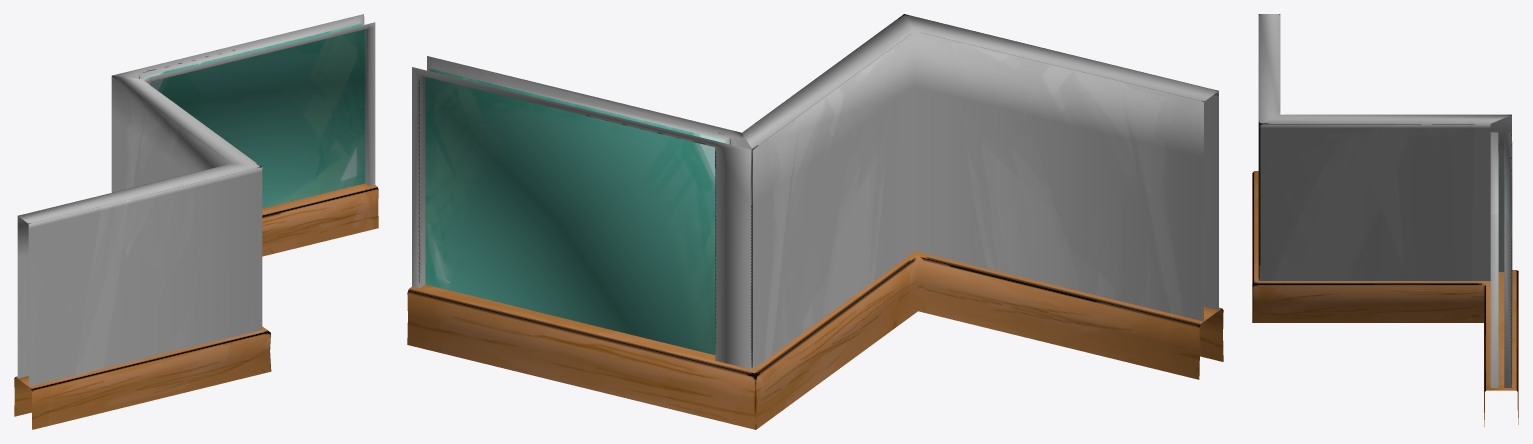
Rendered from GroundModuleCorner.fbx.
The picture shows the model from 3 angles, left to right: view 1: azimuth 30°, elevation 25°; view 2: azimuth 150°, elevation 25°; view 3: azimuth 270°, elevation 25°; orthographic projection. The views are drawn at different scales.
Visible parts, largest first — view 1: GroundModuleCorner_low; view 2: GroundModuleCorner_low; view 3: GroundModuleCorner_low.
Boxes of the visible parts, x1=… form: GroundModuleCorner_low: x1=14, y1=14, x2=378, y2=429; GroundModuleCorner_low: x1=407, y1=14, x2=1223, y2=429; GroundModuleCorner_low: x1=1252, y1=14, x2=1518, y2=426.
Size of the model in its own units: 12 by 5 by 6.15.
